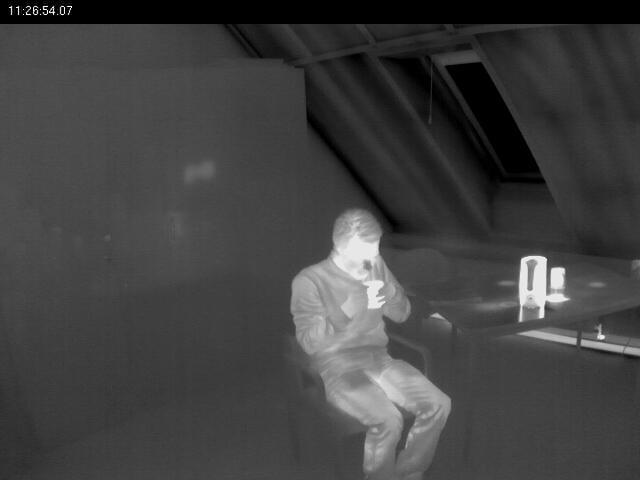person: (289, 211, 459, 478)
